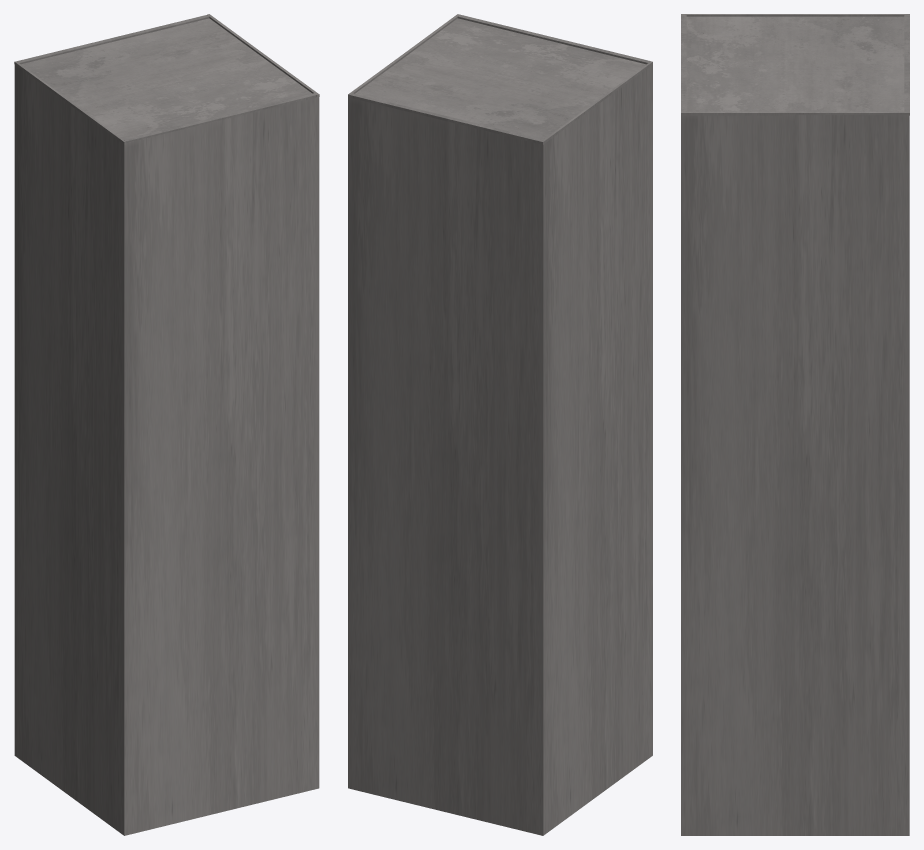
File: supportbeam.fbx
The picture shows the model from 3 angles, left to right: view 1: azimuth 30°, elevation 25°; view 2: azimuth 150°, elevation 25°; view 3: azimuth 270°, elevation 25°; orthographic projection. The views are drawn at different scales.
Parts seen in each view (by area): view 1: Construction_Building; view 2: Construction_Building; view 3: Construction_Building.
Part boxes in pixels (<box>): Construction_Building: <box>14,14,319,835</box>; Construction_Building: <box>348,14,652,835</box>; Construction_Building: <box>681,14,909,835</box>.
Size of the model in its own units: 356 by 1211 by 347.
Materials: 1 (1 with a texture image).
